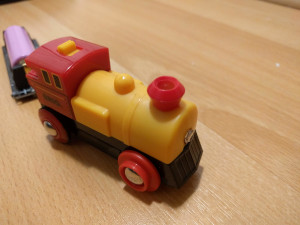brio: (24, 34, 205, 196)
